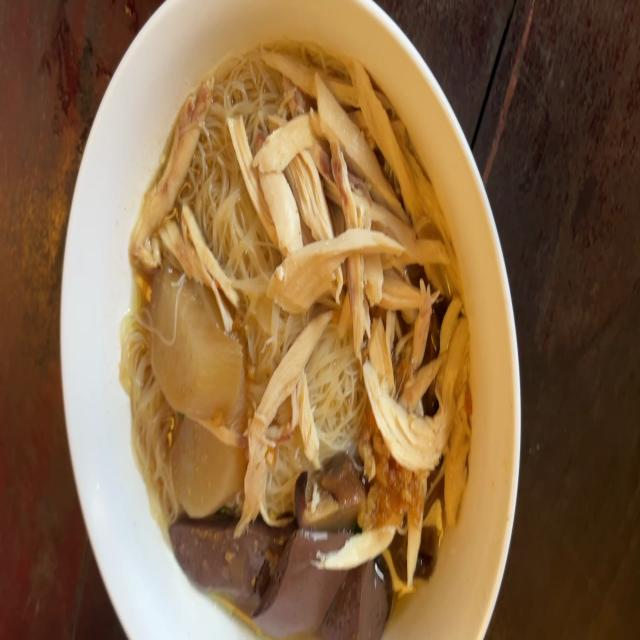noodle: (178, 514, 386, 640)
